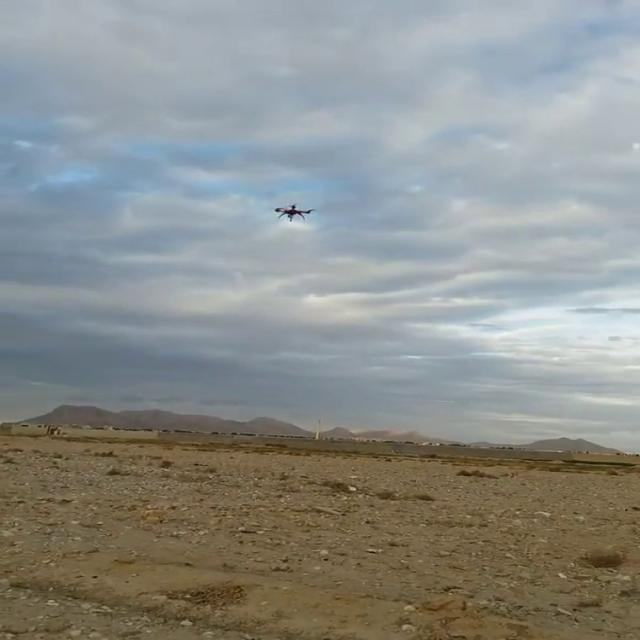drone: (271, 200, 316, 222)
